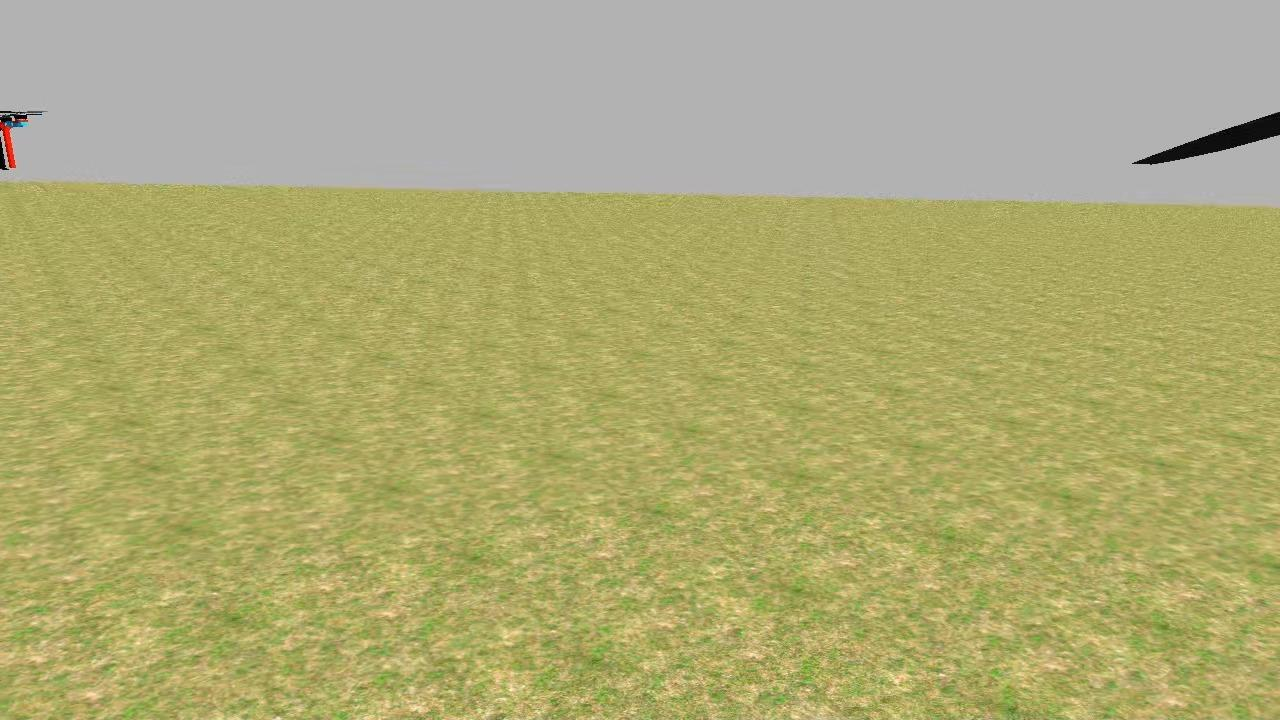UAV: (0, 94, 50, 178)
